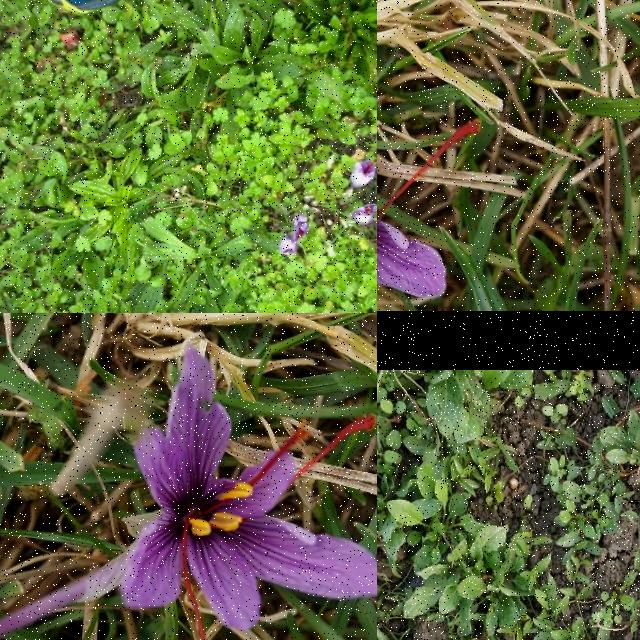flower: (119, 342, 377, 640), (377, 95, 481, 311), (350, 159, 376, 191), (353, 204, 377, 226)
overlap: (280, 214, 308, 256)
